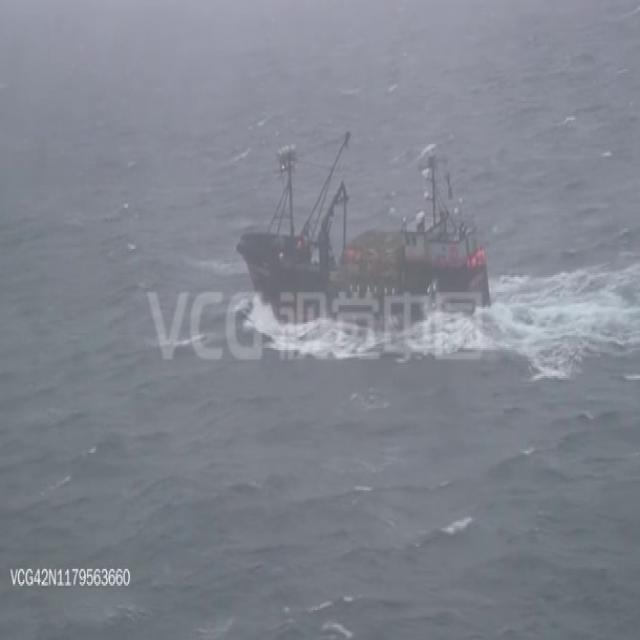houseboat: (246, 138, 484, 332)
